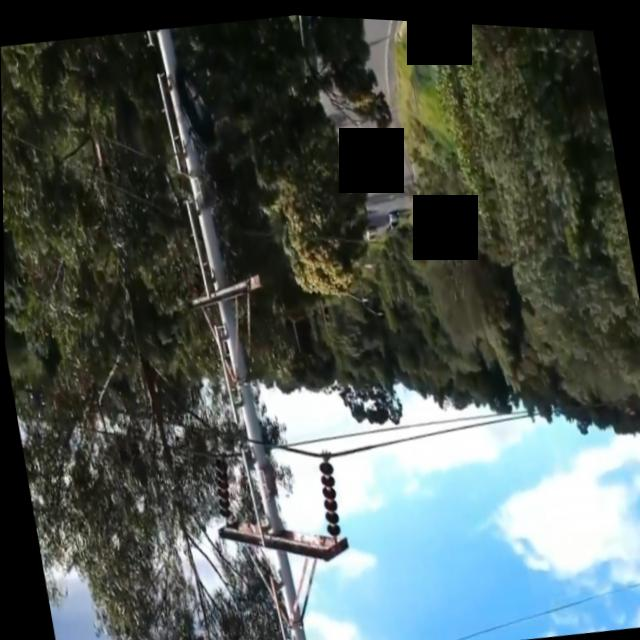Pole: (125, 11, 362, 640)
Tree: (0, 17, 296, 640), (479, 20, 640, 367), (228, 9, 380, 304), (420, 17, 502, 225), (299, 12, 401, 146)
